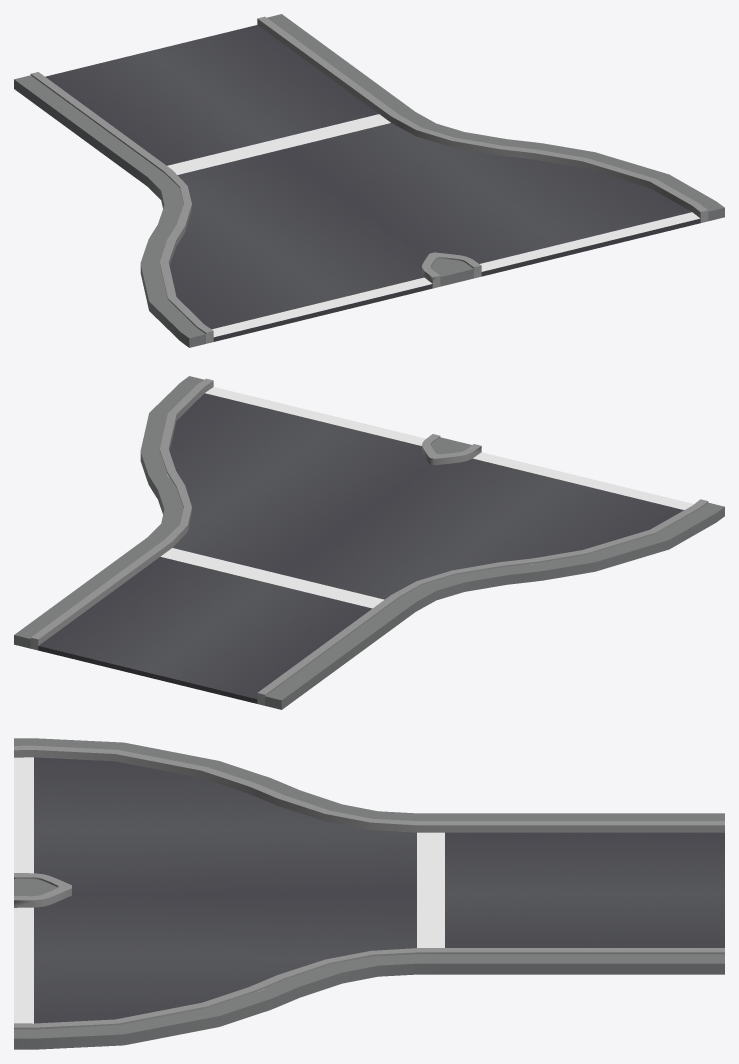
The model's file is Road11_Y_Splitter.obj.
The picture shows the model from 3 angles, top to bottom: view 1: azimuth 30°, elevation 25°; view 2: azimuth 150°, elevation 25°; view 3: azimuth 270°, elevation 25°; orthographic projection. The views are drawn at different scales.
Visible parts, largest first — view 1: Road11_Y_Splitter_Road10Material; view 2: Road11_Y_Splitter_Road10Material; view 3: Road11_Y_Splitter_Road10Material.
Part boxes in pixels (box(x1,y1,x2,y2)): Road11_Y_Splitter_Road10Material: box(14, 14, 724, 347); Road11_Y_Splitter_Road10Material: box(14, 376, 724, 709); Road11_Y_Splitter_Road10Material: box(14, 738, 724, 1049).
Bounding box in the file's own units: 24 × 0.4754 × 24.
